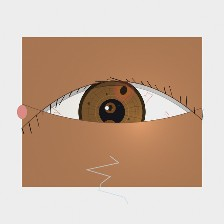foreign_body_visible: (85, 108, 134, 147)
